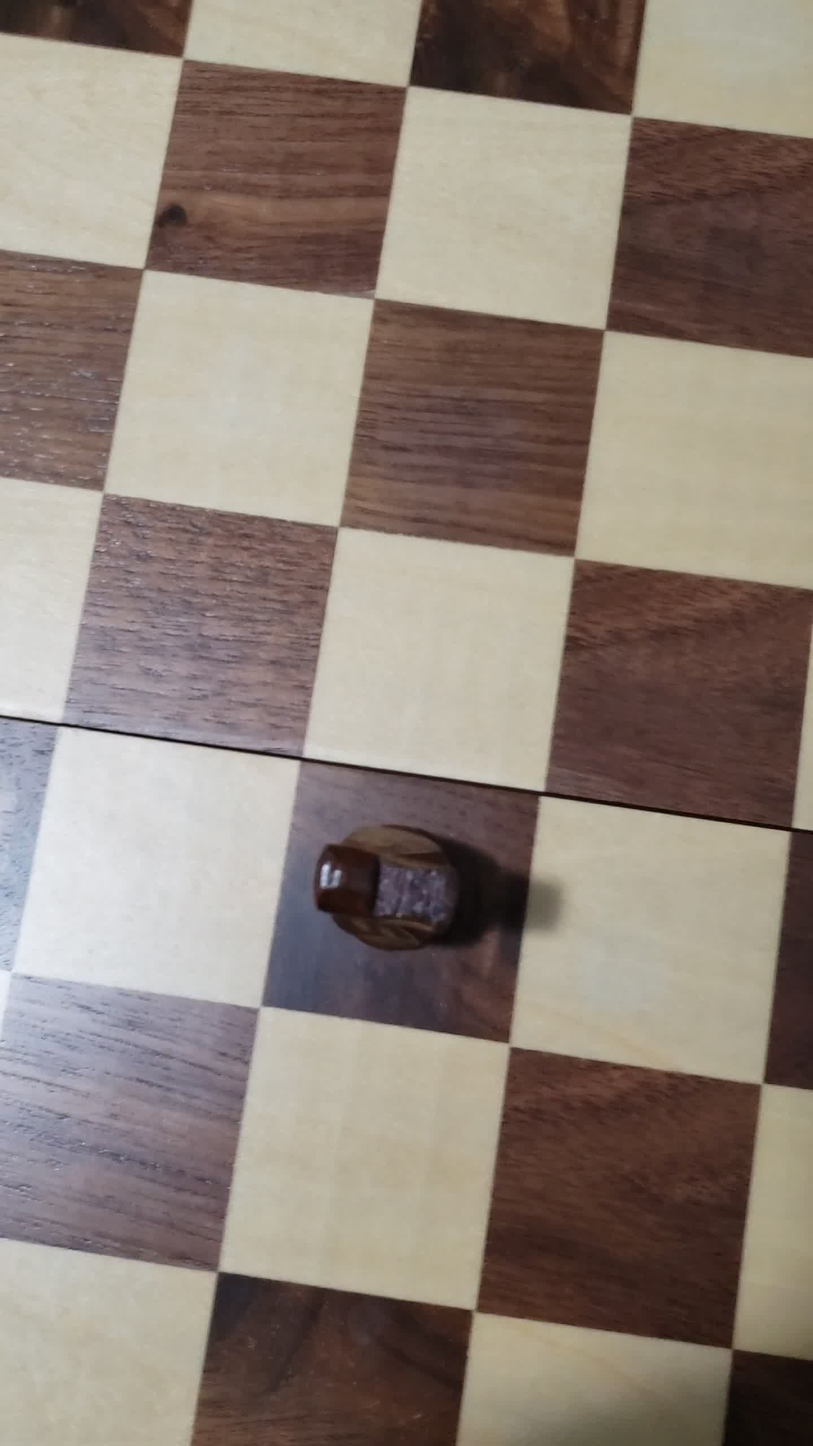black-knight: (288, 791, 543, 1003)
